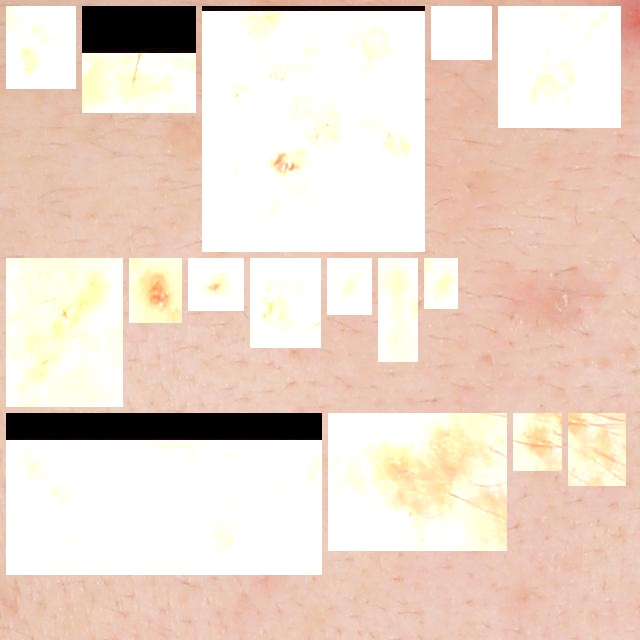melasma: (210, 14, 417, 244), (14, 421, 314, 567), (336, 421, 499, 543), (14, 266, 115, 399), (506, 14, 613, 120), (90, 14, 188, 105), (258, 266, 313, 340), (14, 14, 68, 81), (576, 421, 618, 478), (386, 266, 410, 354), (137, 266, 174, 315), (439, 14, 484, 52), (196, 266, 236, 303), (521, 421, 554, 463), (335, 266, 364, 307), (432, 266, 450, 301)
